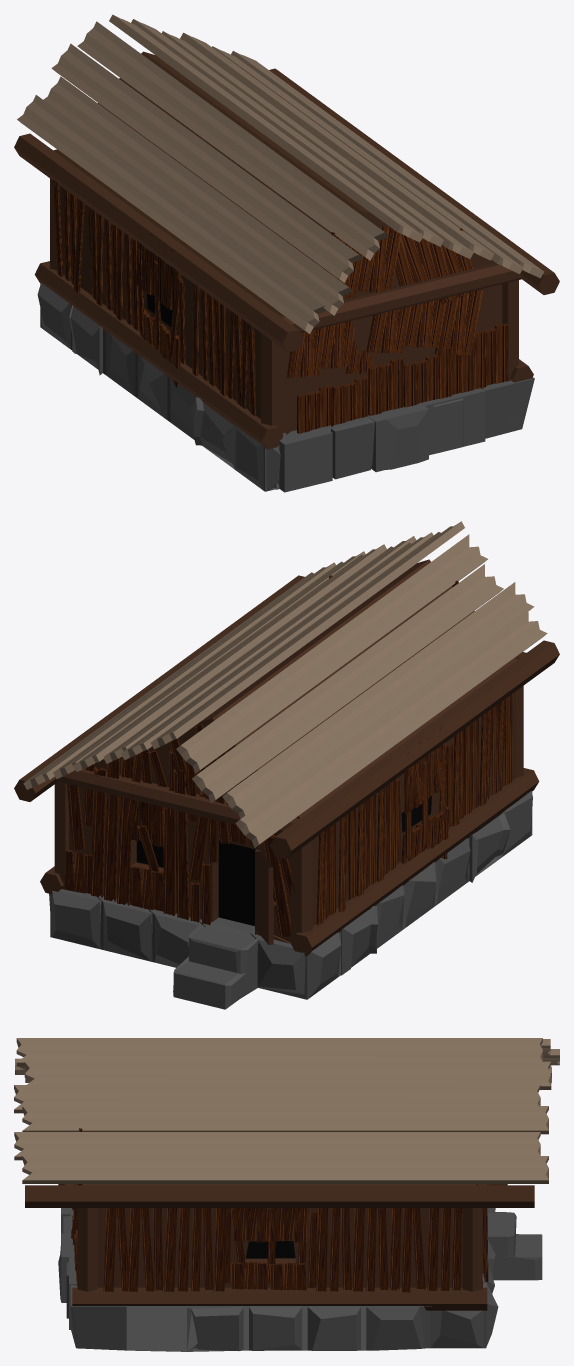
The model's file is HouseTypeOne.fbx.
3 views of the same model, one above another, from view 1: azimuth 30°, elevation 25°; view 2: azimuth 150°, elevation 25°; view 3: azimuth 270°, elevation 25° (orthographic). The views are drawn at different scales.
Parts seen in each view (by area): view 1: Cube.008, Cube.117, fundfament, balka.001, house, balka4; view 2: Cube.008, Cube.117, fundfament, balka.001, house, balka4; view 3: Cube.008, Cube.117, fundfament, balka.001, house, balka4.
Boxes of the visible parts, x1,y1,x2,y2 form: Cube.008: (17,14,543,333); Cube.117: (53,180,508,433); fundfament: (37,283,534,492); balka.001: (14,68,559,449); house: (55,51,502,434); balka4: (50,178,518,438); Cube.008: (23,521,547,847); Cube.117: (61,575,512,936); fundfament: (49,791,532,1009); balka.001: (14,575,559,956); house: (69,559,517,944); balka4: (54,686,523,944); Cube.008: (14,1038,559,1183); Cube.117: (71,1128,488,1292); fundfament: (58,1208,542,1351); balka.001: (25,1183,534,1310); house: (83,1184,507,1287); balka4: (77,1208,482,1291).
Bounding box in the file's own units: 951 × 836 × 1706.
